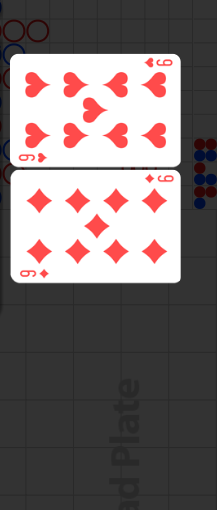9D: (19, 268, 51, 279)
9H: (142, 56, 174, 69)
